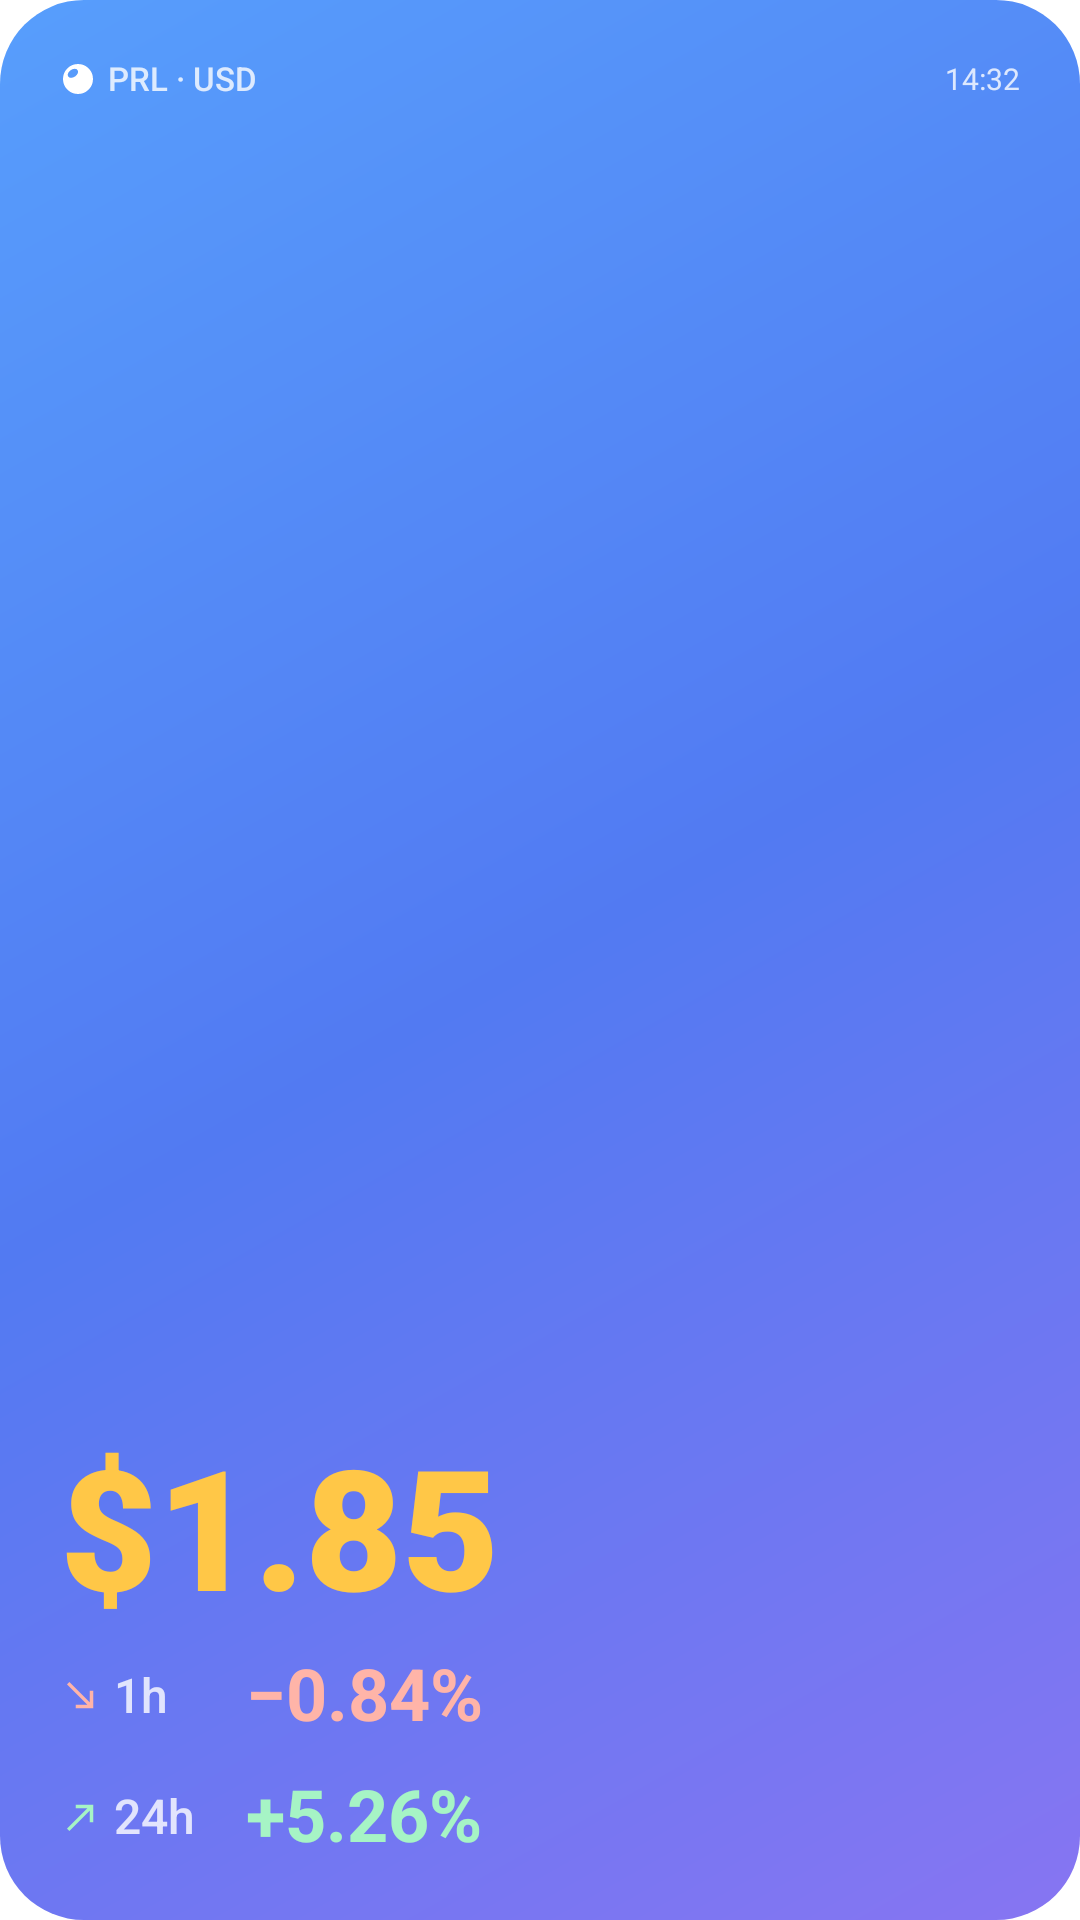

Point at icon controls on the screen. Image size 1080 x 1920, points as (x,y).
pearl: (78,79)
widget trend down: (80,1695)
widget trend up: (80,1817)
